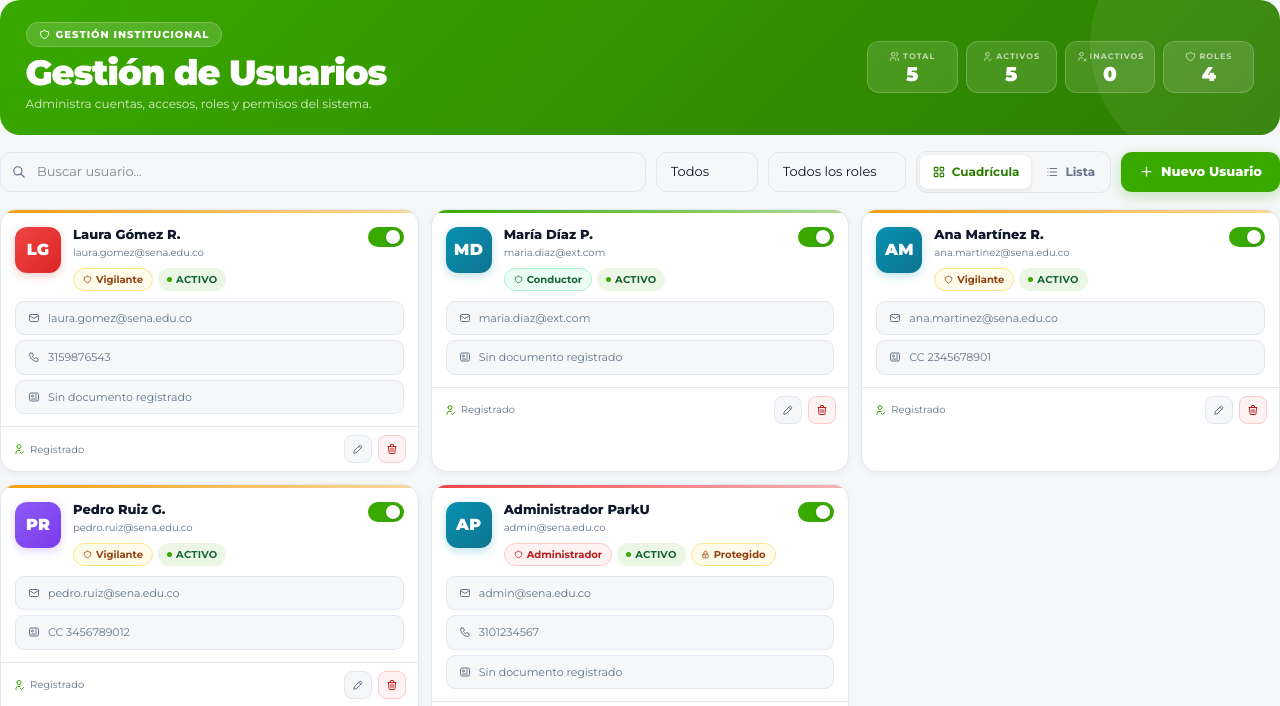
Test: Usuarios › exige el número de documento sea cual sea el rol
Expected: the text "Ana Martínez R." is shown, top-left (934, 226), bottom-right (1044, 242)
Click the button "Nuevo Usuario". click: click(1200, 172)
box: top-left (1121, 152), bottom-right (1279, 192)
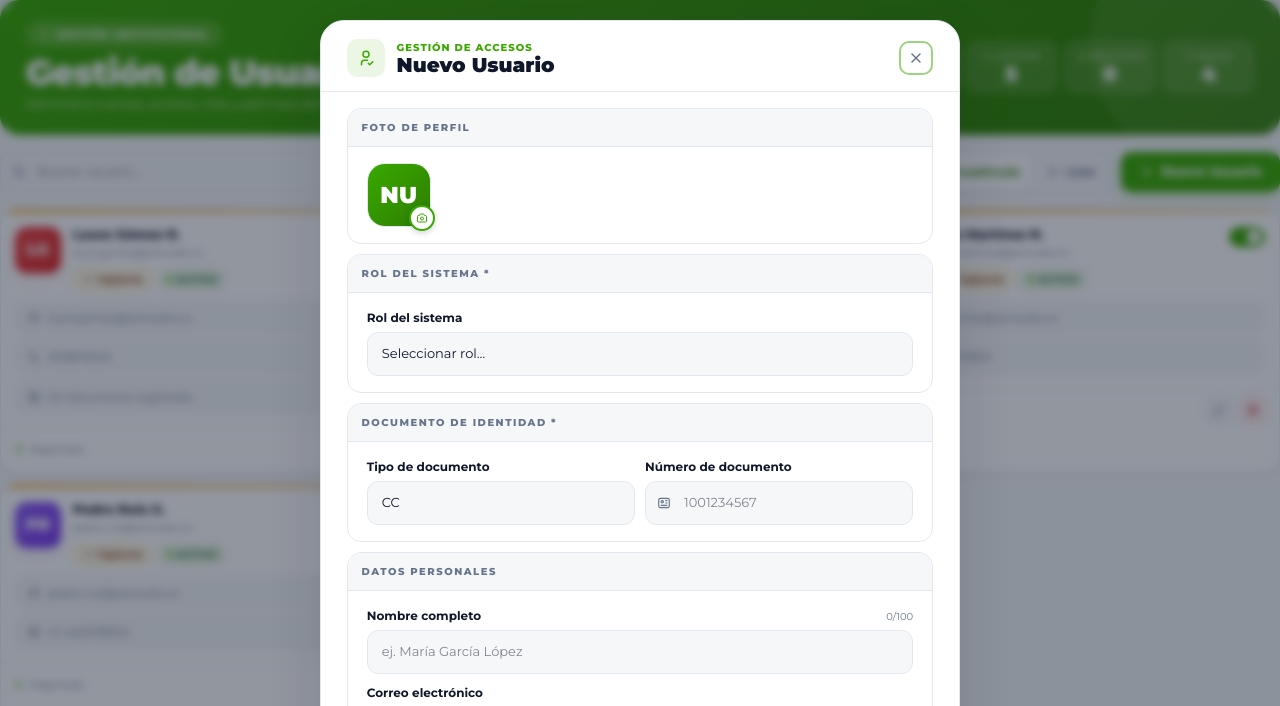
Now the heading "Nuevo Usuario" is shown, box top-left (397, 55), bottom-right (555, 75)
El documento se pide de entrada, antes que los datos personales, y para cualquier rol.
Select "Vigilante" in the dropdown named "Rol del sistema". click: (640, 354)
box: top-left (367, 332), bottom-right (913, 376)
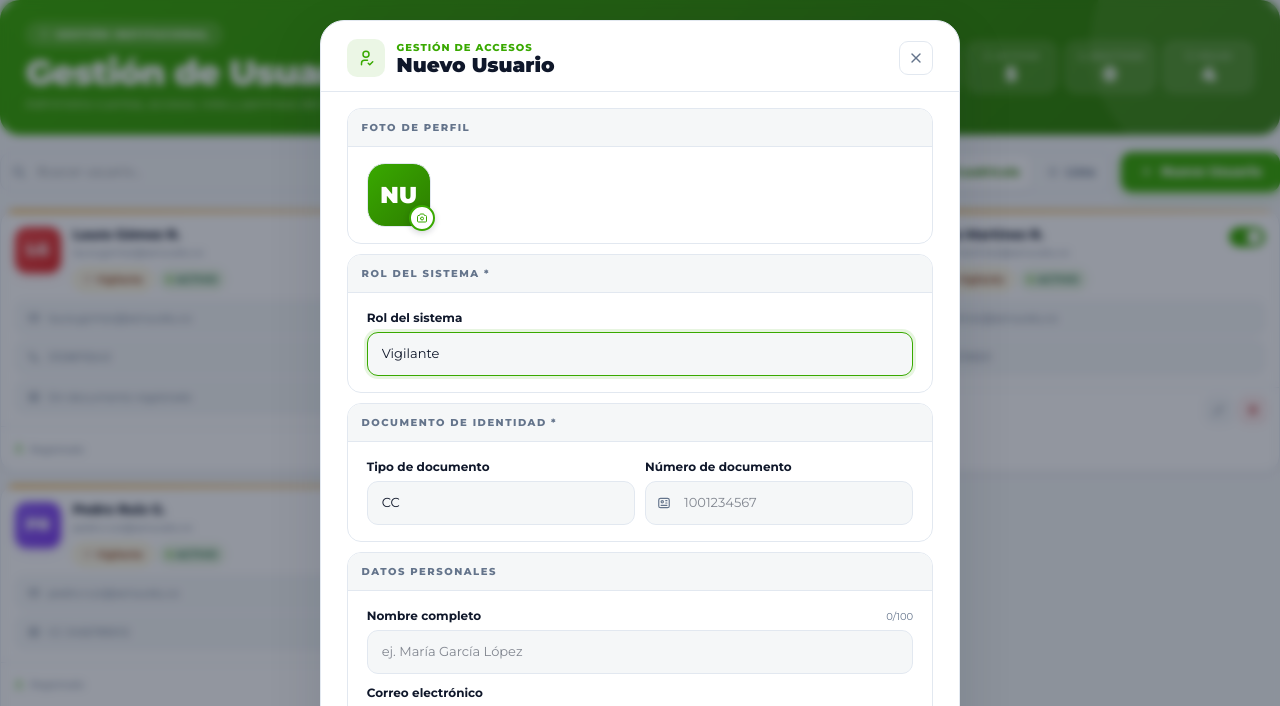
Click the field named "Número de documento". click: click(779, 503)
box: top-left (645, 481), bottom-right (913, 525)
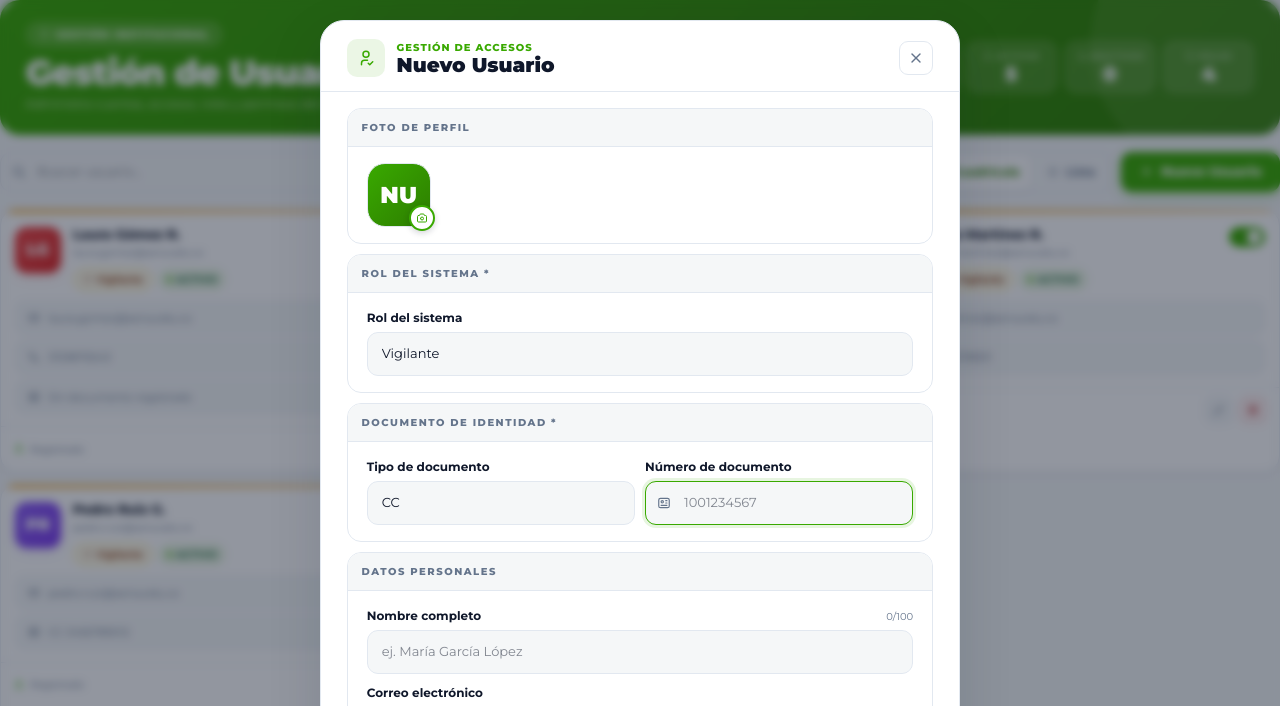
Press Tab
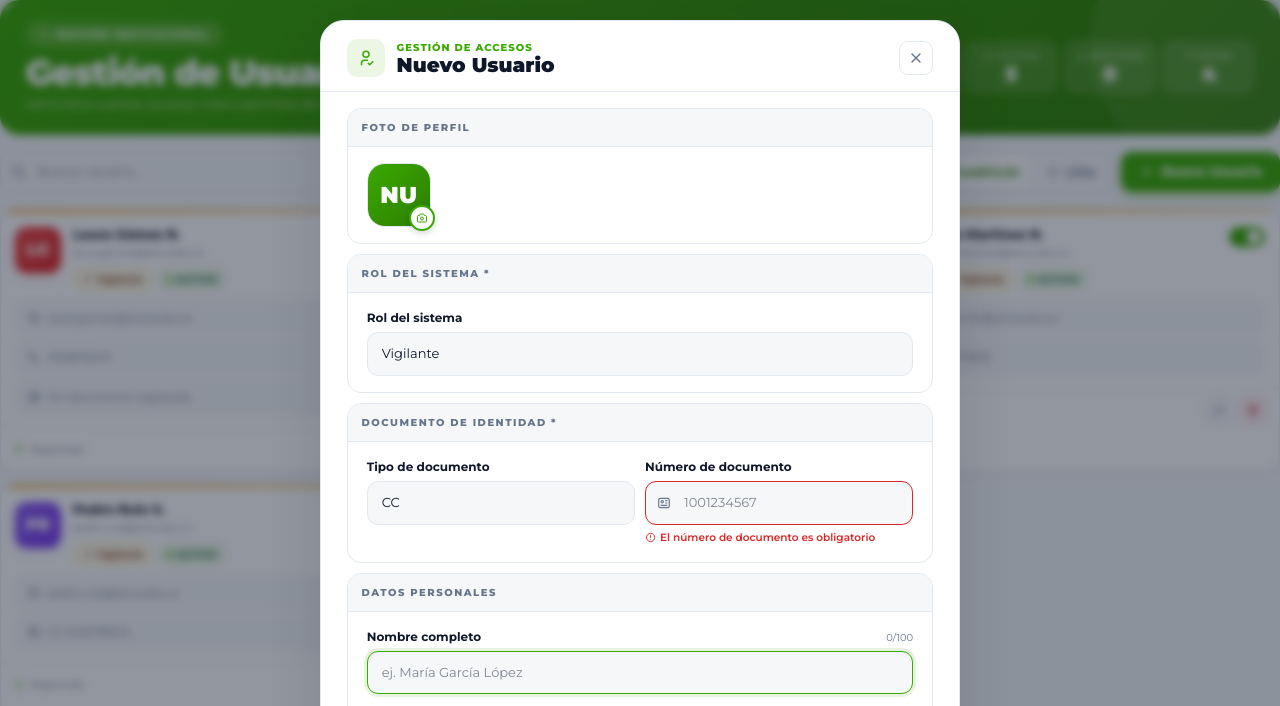
Now the text "El número de documento es obligatorio" is shown, box top-left (645, 530), bottom-right (913, 546)
